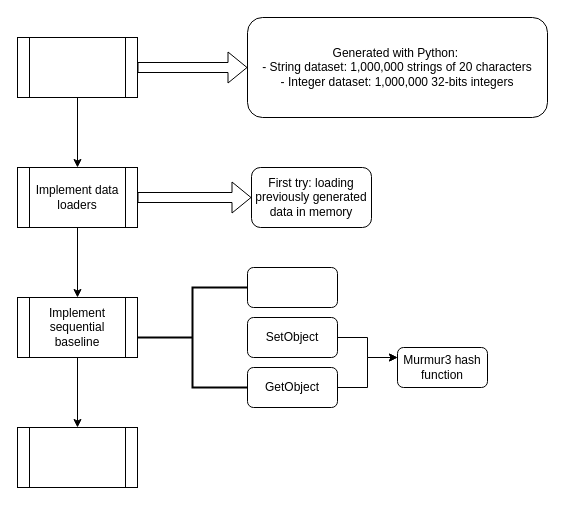
Image size: 565x505. Some labels were removed from this diagram. The shapes that lost their labels are listed below. From the top down, each one's box as (x1, y1, x2, y2) in pixels, then its label:
(16, 36, 138, 98): Generate datasets
(246, 266, 338, 308): GetBloomFilter
(16, 426, 138, 488): Paralle implementations
